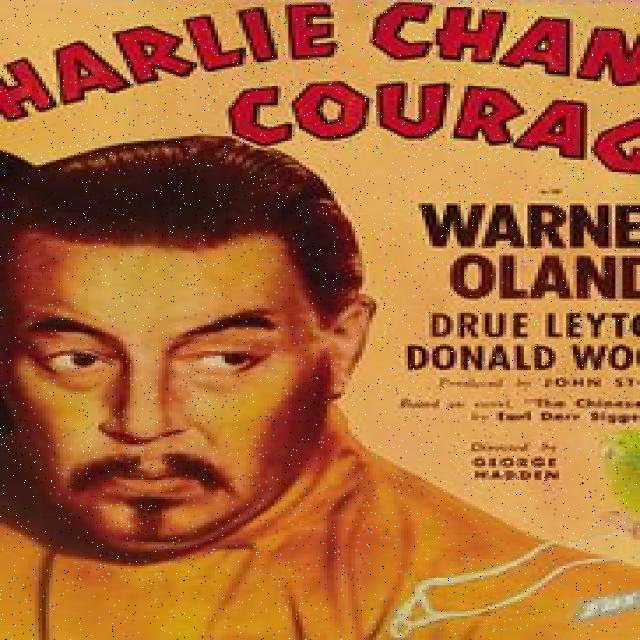picture: (3, 136, 390, 640)
